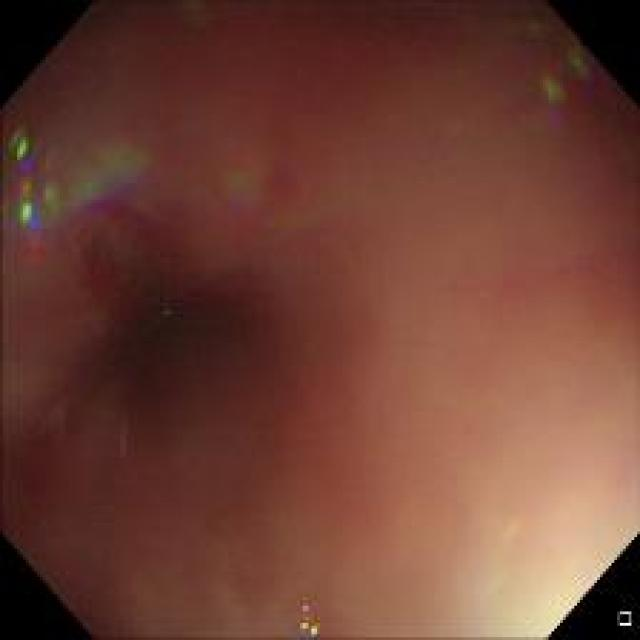color misalignment: (4, 130, 145, 252), (520, 16, 600, 120), (205, 155, 300, 221), (289, 592, 328, 632), (160, 299, 170, 319)
contrast: (62, 230, 290, 451)
